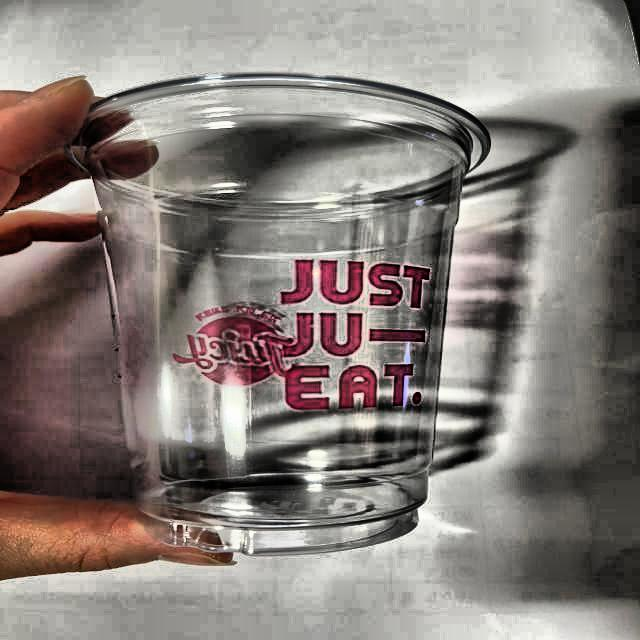plastic cup: (59, 68, 500, 556)
